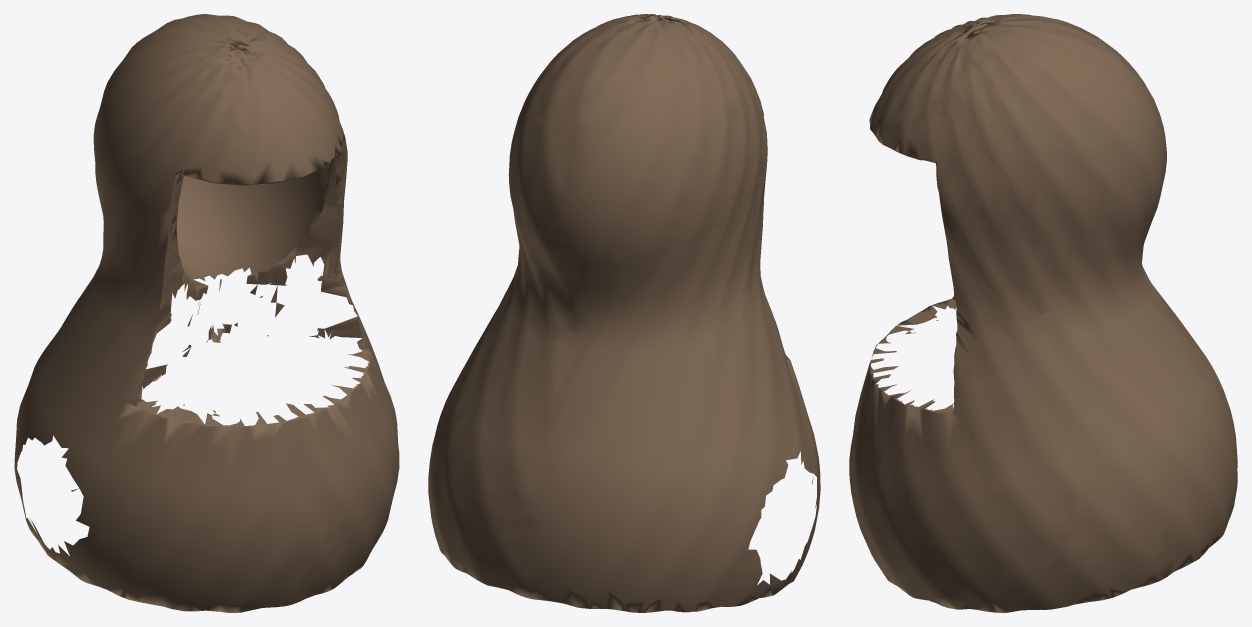
The model's file is hair32-female-hijab.glb.
3 renders of one model, left to right at view 1: azimuth 30°, elevation 25°; view 2: azimuth 150°, elevation 25°; view 3: azimuth 270°, elevation 25°, orthographic.
Parts seen in each view (by area): view 1: hair32-hijab; view 2: hair32-hijab; view 3: hair32-hijab.
Boxes of the visible parts, bbox=[...] form: hair32-hijab: bbox=[14, 14, 399, 612]; hair32-hijab: bbox=[428, 14, 820, 612]; hair32-hijab: bbox=[849, 14, 1237, 612].
Bounding box in the file's own units: 0.2653 × 0.4093 × 0.2702.
